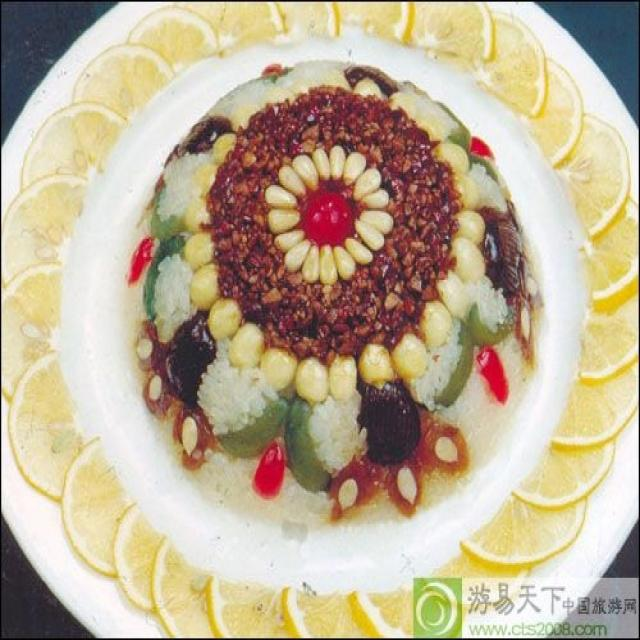米饭主食: (5, 13, 635, 629)
